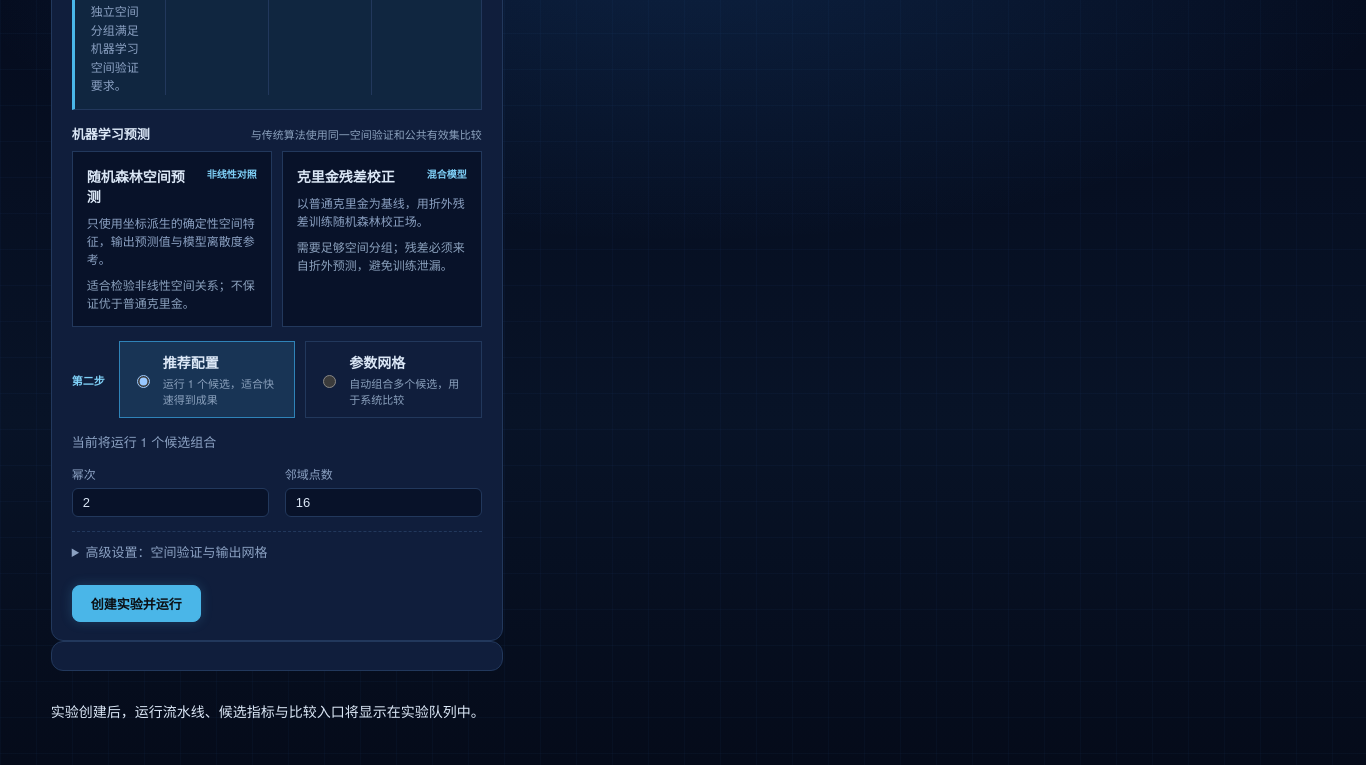
Scenario: ExperimentView 创建模式 › 超过 50 组合硬阻断提交
(page scrolled)
Step 1. Click the radio button with test id "mode-grid" → coordinates (330, 381), box [323,375,336,388]
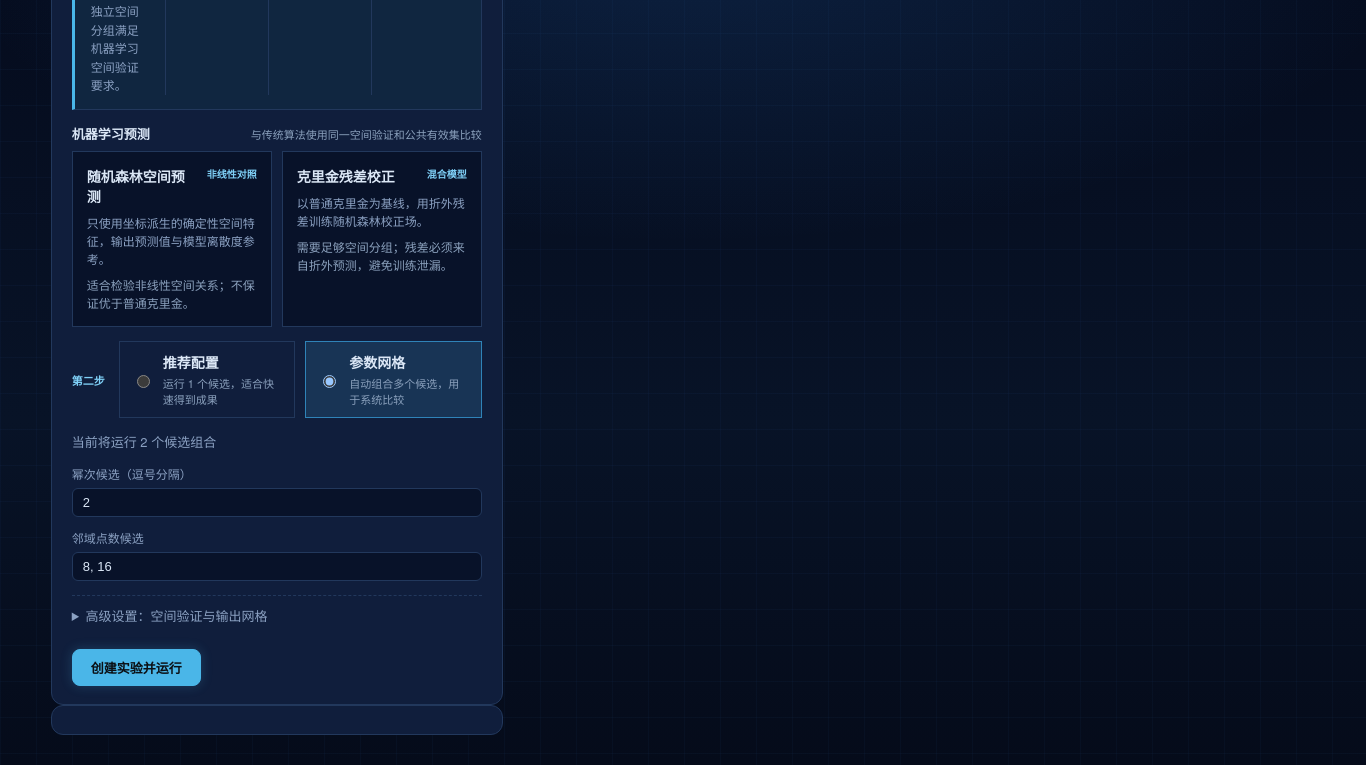
Step 2. Replace the text in the field with test id "grid-power" with "1,1.5,2,2.5,3,3.5,4,4.5" → coordinates (277, 503), box [72,488,482,517]
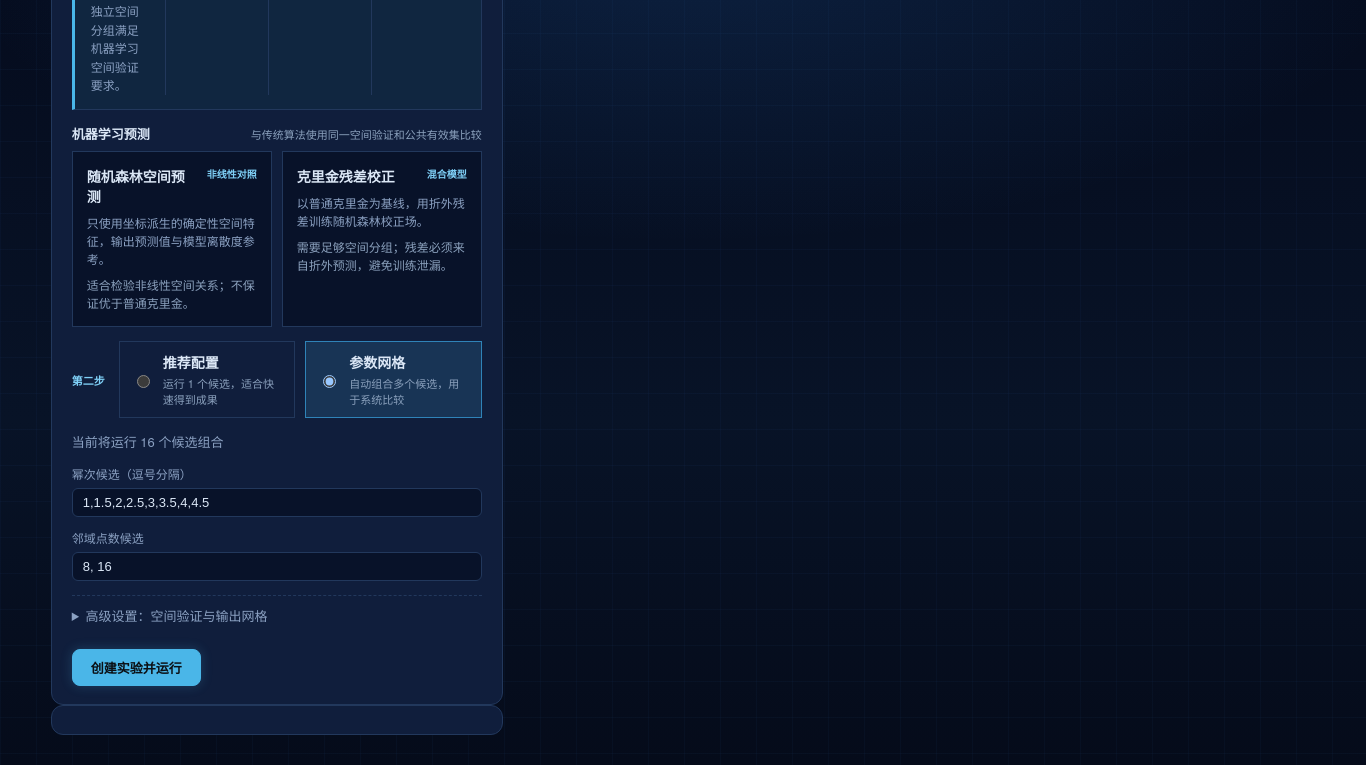
Step 3. Replace the text in the field with test id "grid-neighbors" with "4,8,12,16,20,24,28,32" → coordinates (277, 567), box [72,552,482,581]
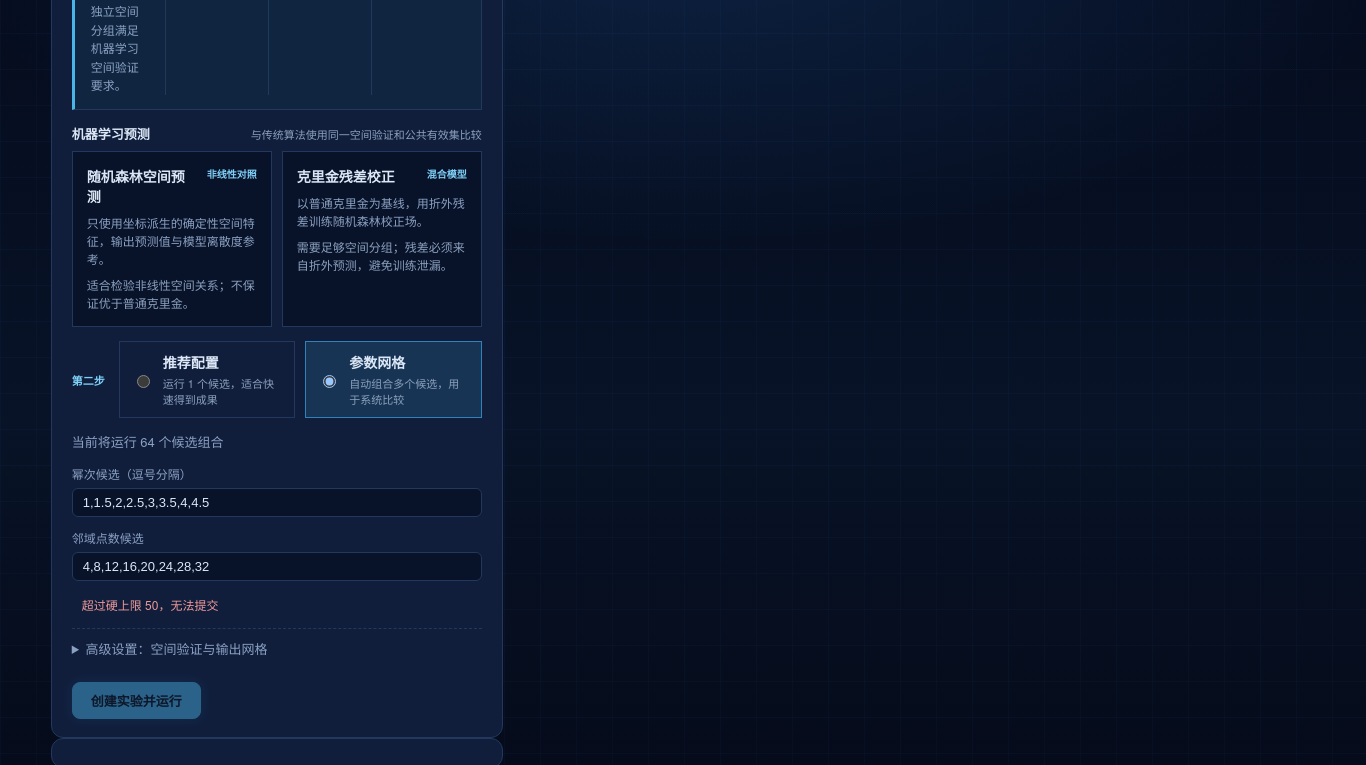
Expected: the text "64 个候选组合" is shown, [72,432,223,451]
Expected: the text "超过硬上限 50，无法提交" is shown, [82,596,218,613]
Expected: the button with test id "exp-submit" is disabled, [72,682,201,719]
